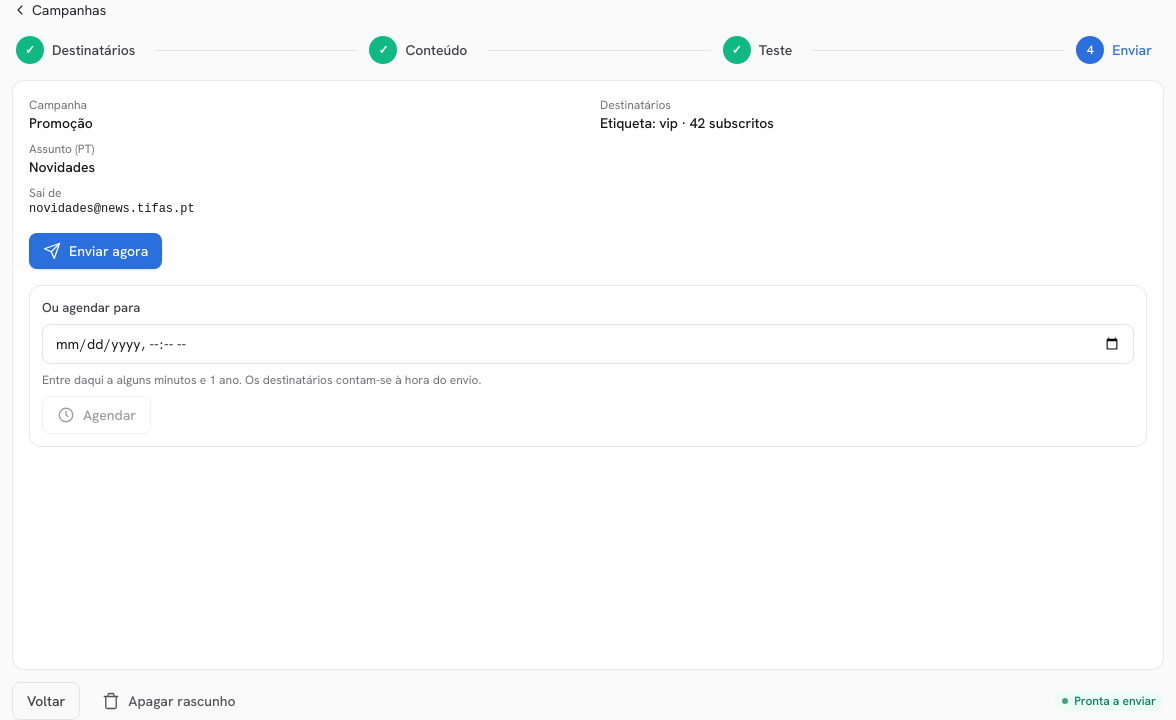
it: Nova campanha — passo 4, enviar ou agendar › Enviar agora pede confirmação, envia e abre a ficha
The image size is (1176, 720).
Expected: the text with test id "campaign-summary-audience" shows "42 subscritos", [690,114,774,132]
Click the button "Enviar agora" at [96, 251], box [29,233,162,269]
(page scrolled)
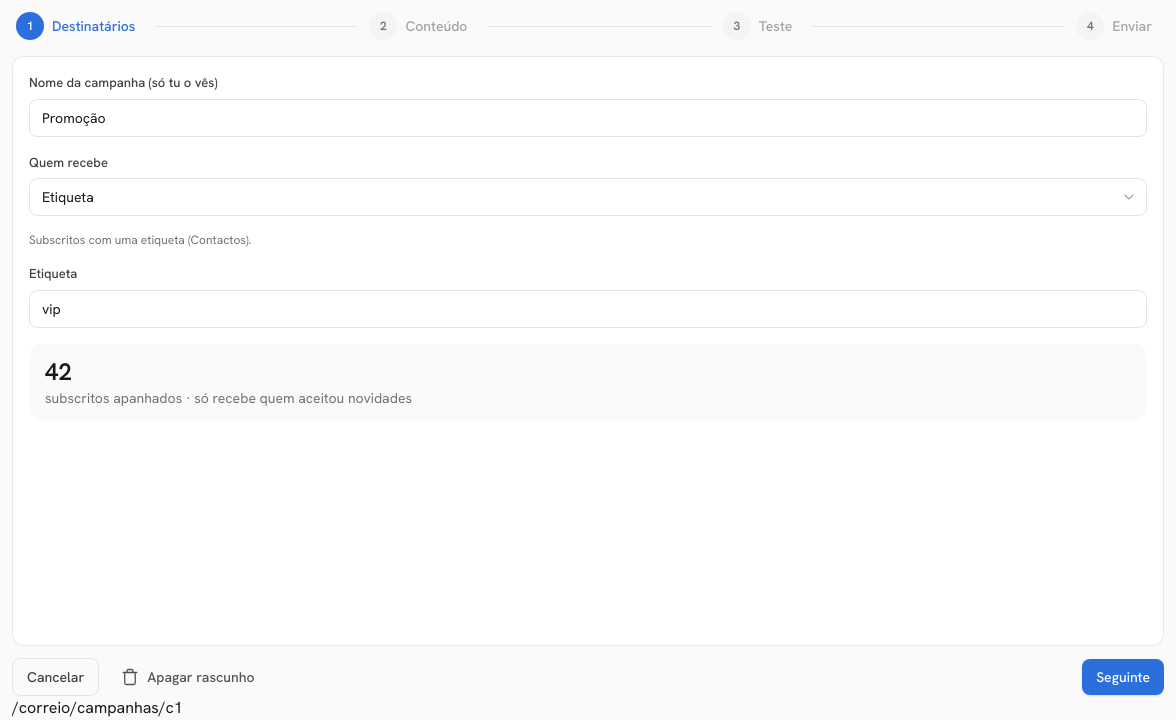
Now the text with test id "where" reads "/correio/campanhas/c1", box [12,697,183,718]
